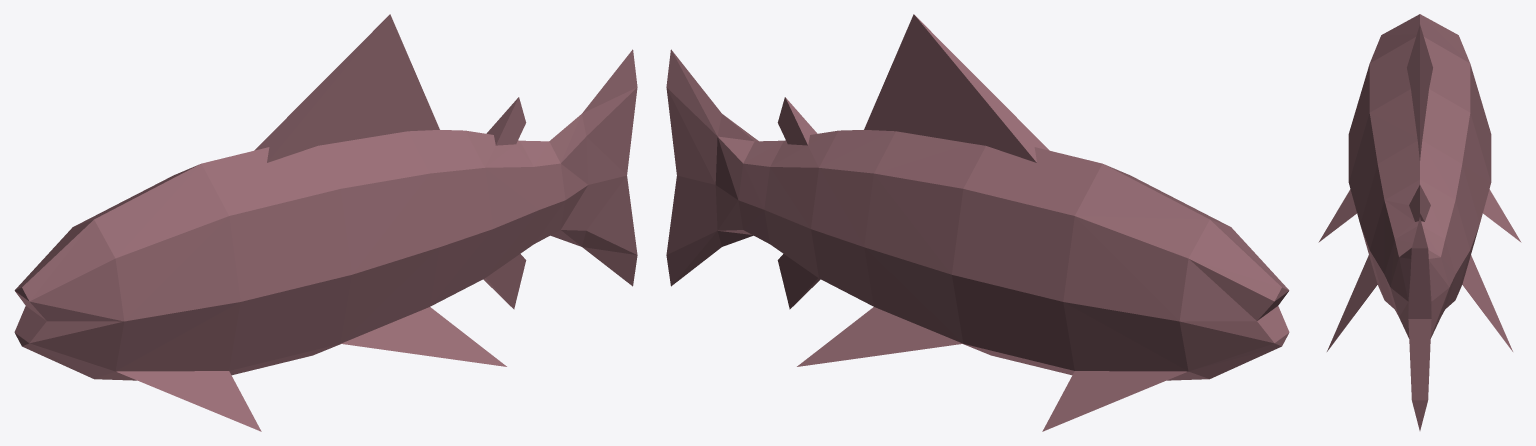
Rendered from fish-large.obj.
3 renders of one model, left to right at view 1: azimuth 30°, elevation 25°; view 2: azimuth 150°, elevation 25°; view 3: azimuth 270°, elevation 25°, orthographic. The views are drawn at different scales.
Bounding box in the file's own units: 0.3073 × 0.1595 × 0.0979.
